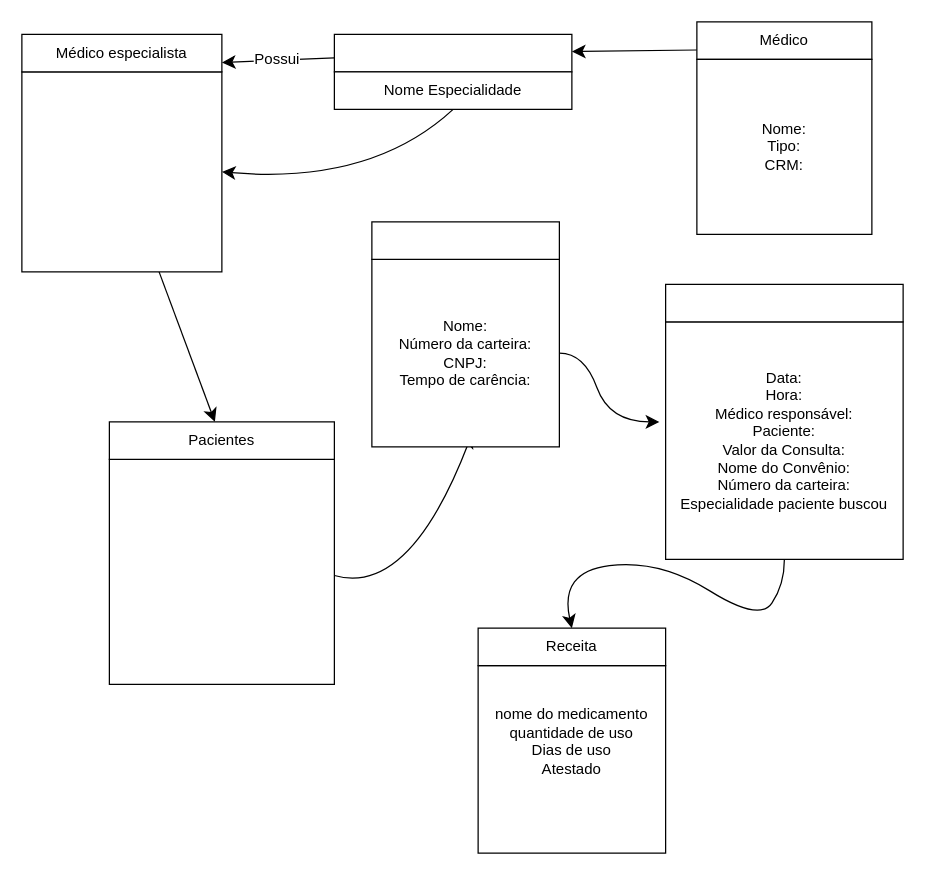
The diagram is 925 pixels wide and 875 high, and some of its shapes have lost their labels. The centre of each missing label's shape, as x and y in pixels:
Consultas: (x=783, y=302)
Convênio: (x=465, y=240)
Especialidade: (x=452, y=52)
Nome: Data de nascimento: Endereço: Telefone: E-mail:: (x=221, y=571)
Pediatria Clínico Geral Gastroenterologia Dermatologia: (x=121, y=171)
